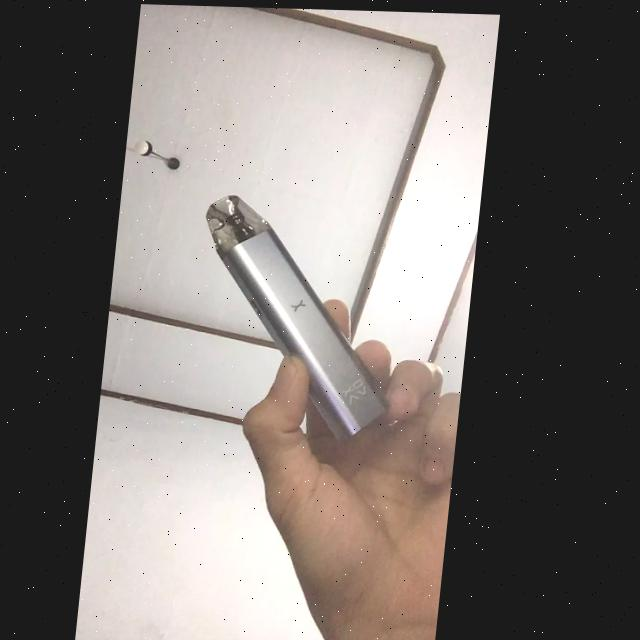vape: (189, 191, 414, 442)
